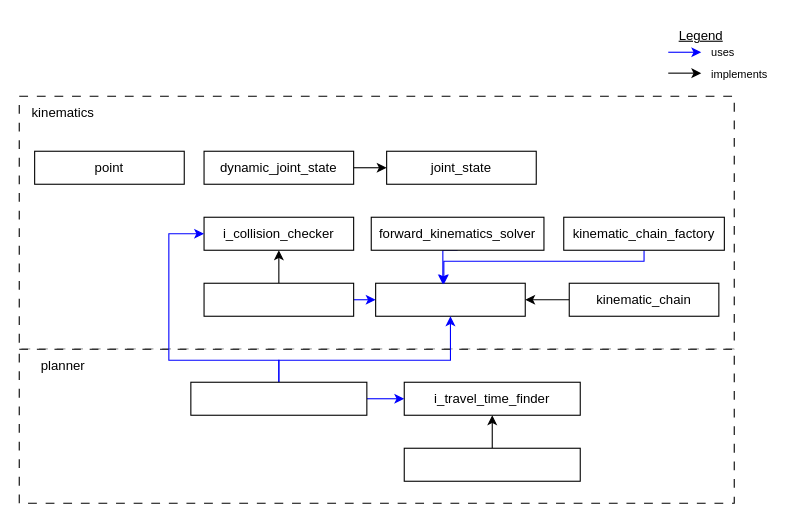
This 798x523 diagram has some shape labels left out. Each missing label, with the centre of its shape:
collision_checker: pixel 278 299
distance_travel_time_finder: pixel 491 464
i_kinematic_chain: pixel 450 299
trajectory_planner: pixel 278 398
